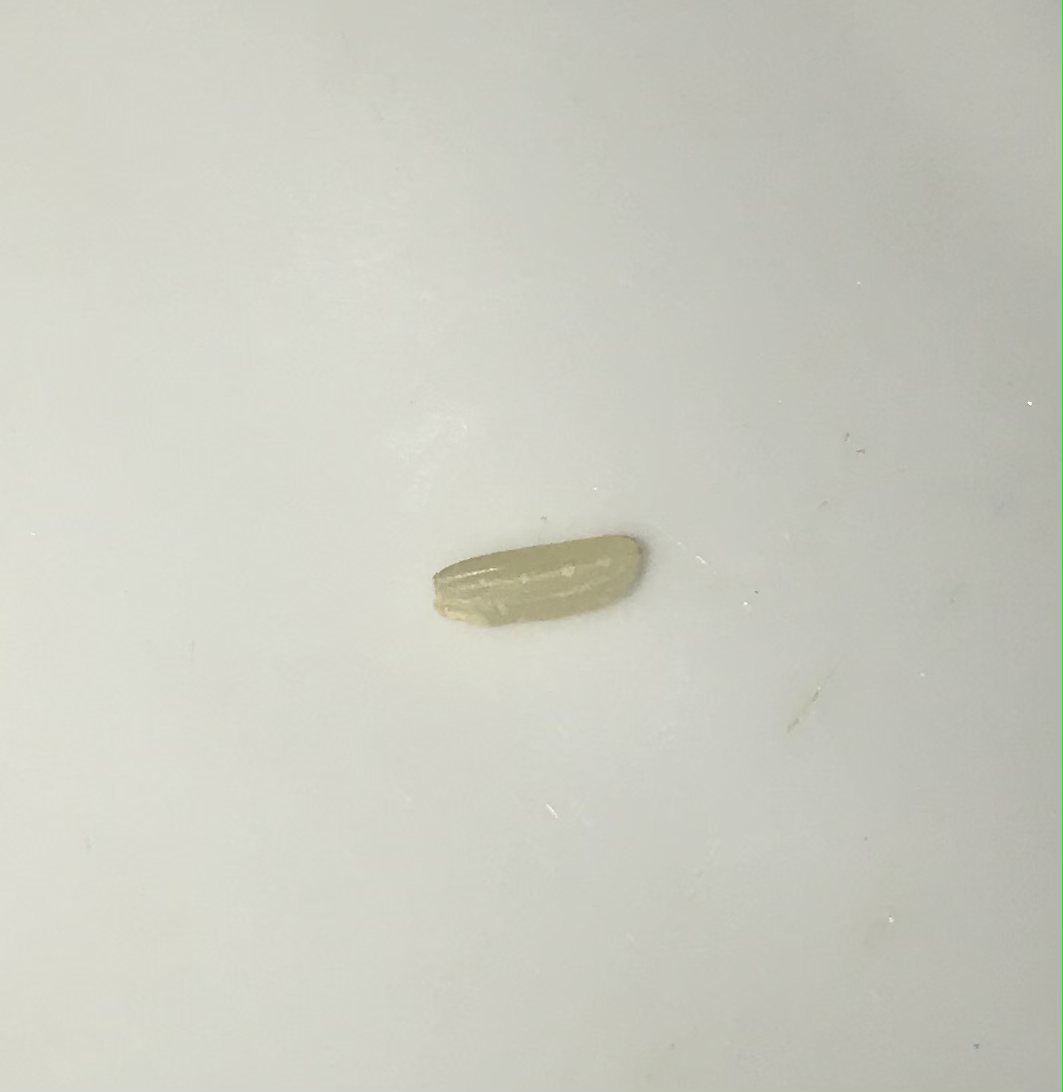Gao Lut Trang: (438, 526, 661, 632)
